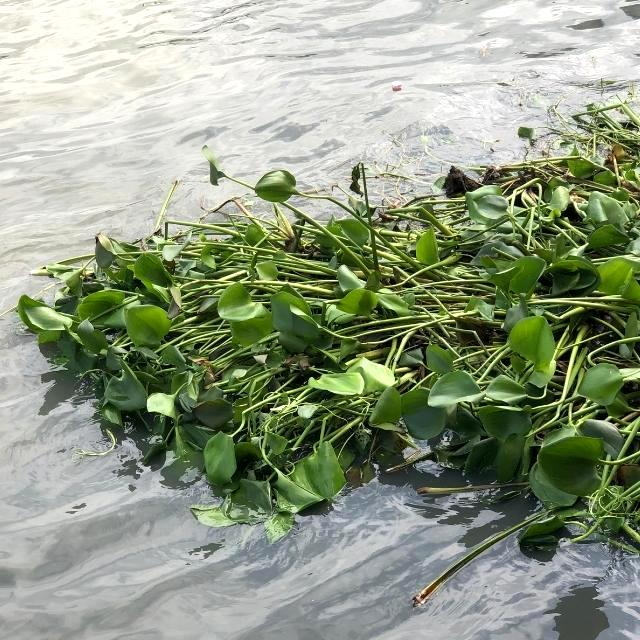water-hyacinth: (18, 95, 640, 547)
